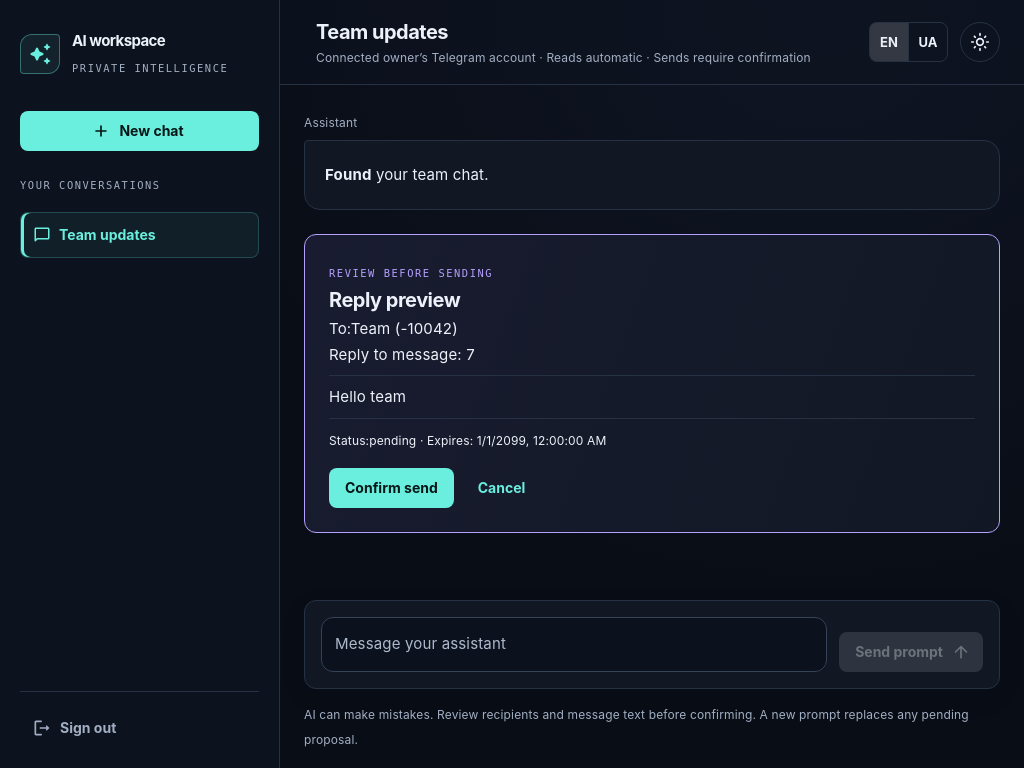
Scenario: standalone AI workspace › shows recipient/body/reply ID and requires a button click to send
Expected: the text "Hello team" is shown, [329, 387, 406, 406]
Expected: the text "To:Team (-10042)" is shown, [329, 319, 458, 338]
Click the button "Confirm send": (391, 488) [329, 468, 454, 508]
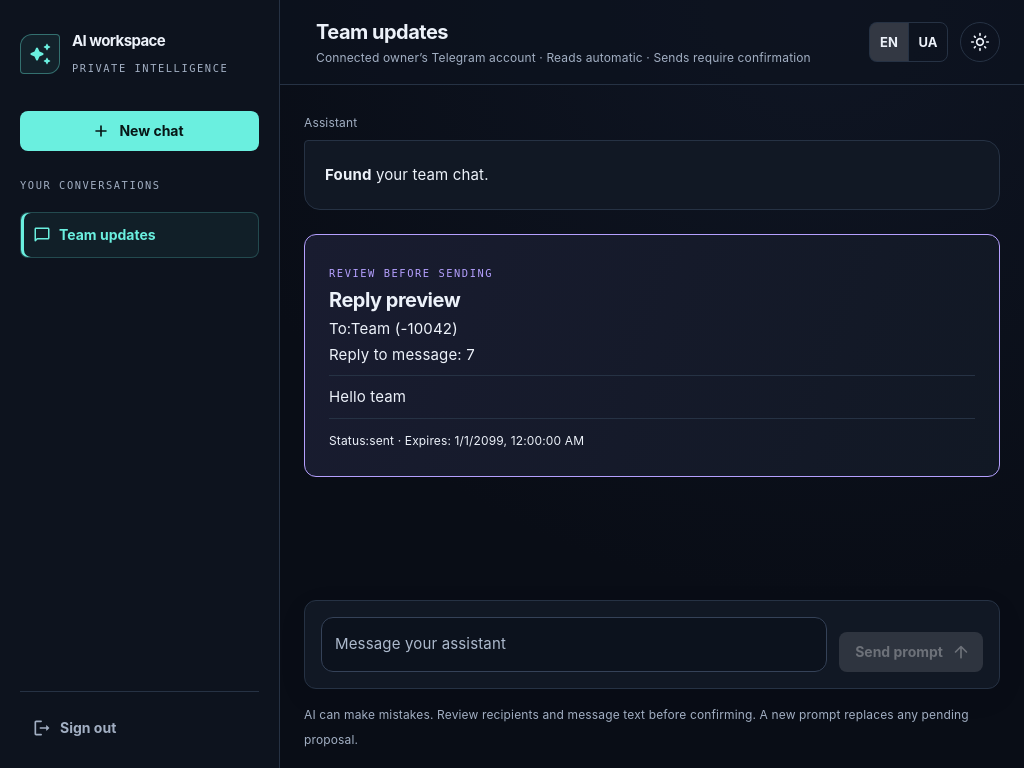
Expected: the button "Confirm send" is gone
